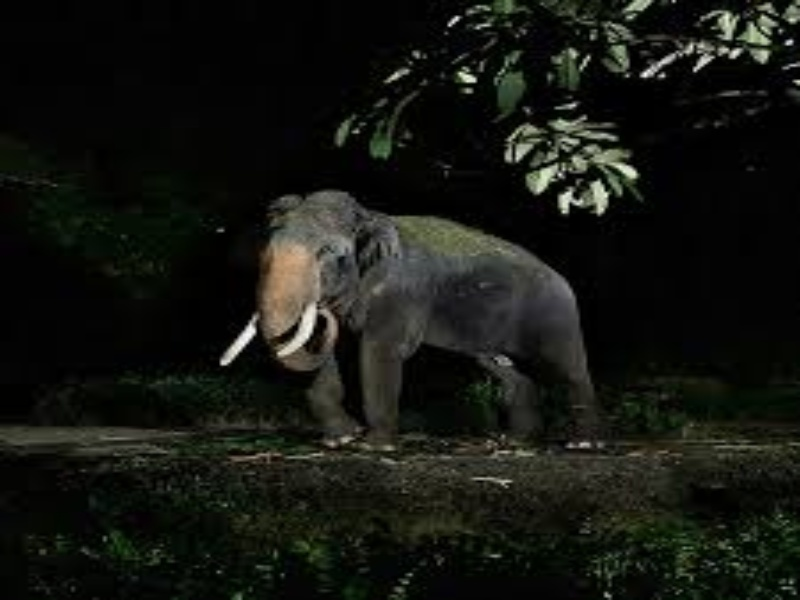elephant: (200, 151, 611, 454)
